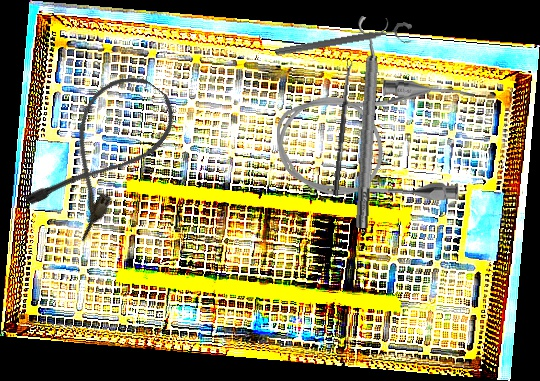Cannula: (19, 60, 187, 245), (275, 78, 475, 201)
Fixation Ring: (343, 16, 392, 229), (274, 21, 415, 67)
Surgical Spoon: (332, 60, 354, 196)
